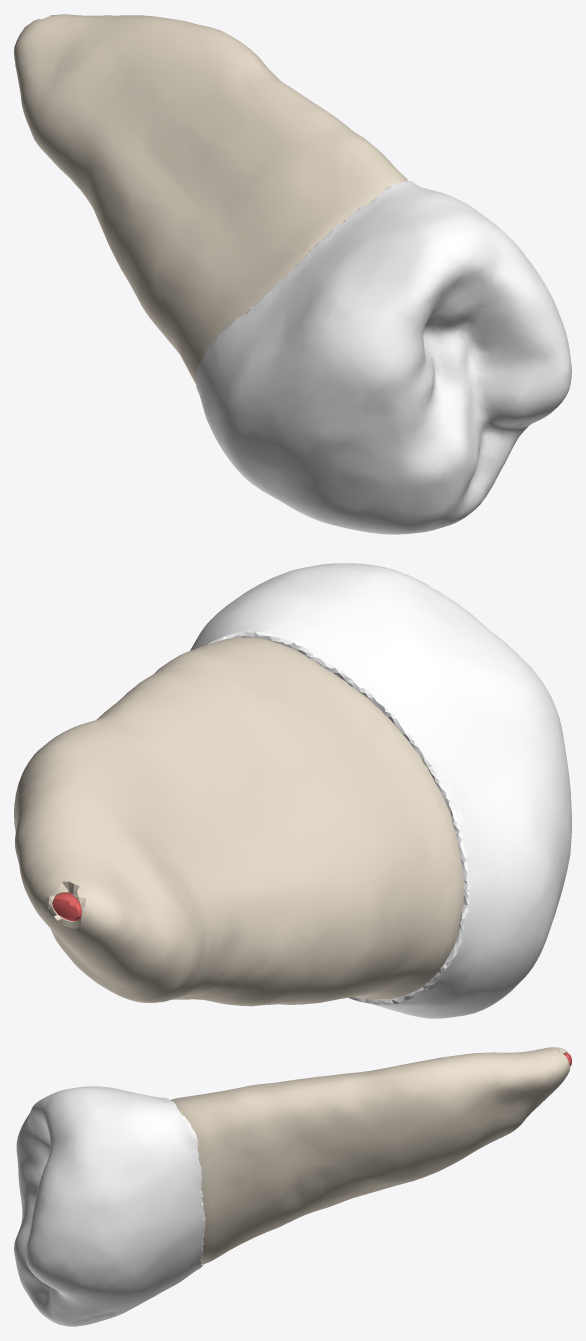
The model's file is 恒牙下颌第二双尖牙.fbx.
The picture shows the model from 3 angles, top to bottom: view 1: azimuth 30°, elevation 25°; view 2: azimuth 150°, elevation 25°; view 3: azimuth 270°, elevation 25°; orthographic projection. The views are drawn at different scales.
Parts seen in each view (by area): view 1: texture_W, texture_B; view 2: texture_B, texture_W, texture_S; view 3: texture_B, texture_W.
Boxes of the visible parts, x1,y1,x2,y2 form: texture_W: (196,181,571,534); texture_B: (14,14,408,383); texture_B: (14,637,463,1006); texture_W: (190,563,571,1018); texture_S: (52,892,81,921); texture_B: (170,1047,570,1264); texture_W: (14,1086,205,1326).
Size of the model in its own units: 12.02 by 12.73 by 24.72.
3 materials, 3 textured.
